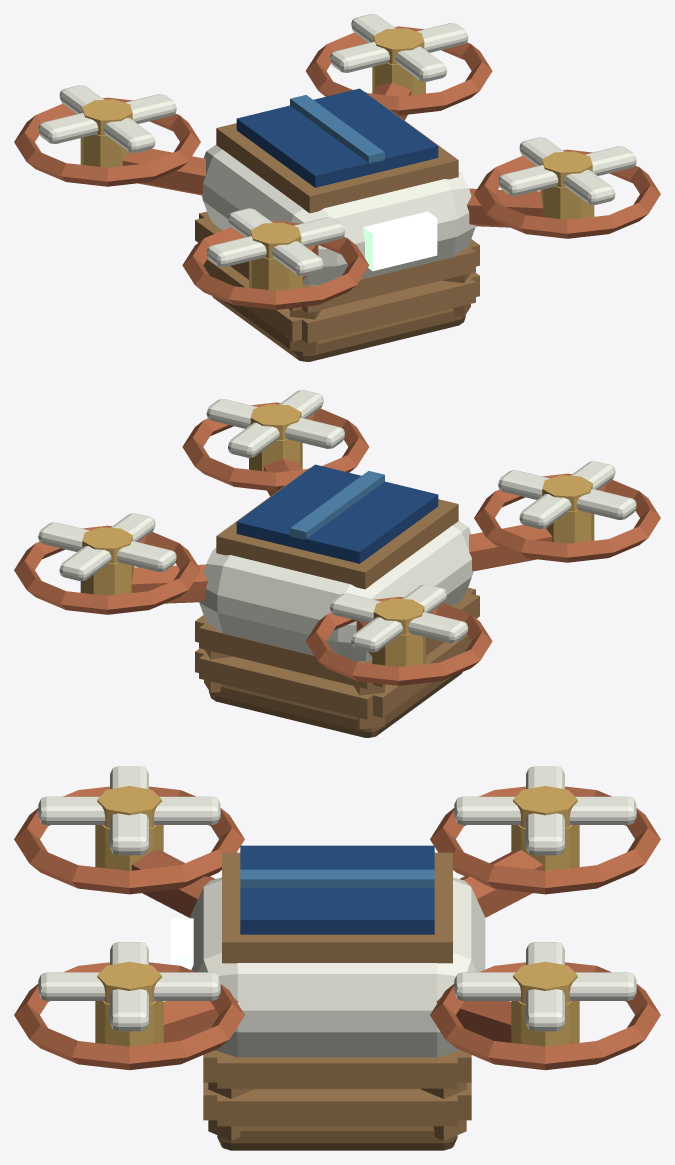
File: drone.glb
The picture shows the model from 3 angles, top to bottom: view 1: azimuth 30°, elevation 25°; view 2: azimuth 150°, elevation 25°; view 3: azimuth 270°, elevation 25°; orthographic projection. The views are drawn at different scales.
Parts seen in each view (by area): view 1: Drone_ceramic_body, Drone_solar_glass, Drone_solar_timber_frame, move_spin_rotor_0, move_spin_rotor_2, move_spin_rotor_1, move_spin_rotor_3, Drone_rotor_guard.001, Drone_rotor_guard.002, Drone_rotor_guard, Drone_basket_end, Drone_rotor_guard.003 (+13 smaller); view 2: Drone_ceramic_body, Drone_solar_glass, Drone_solar_timber_frame, move_spin_rotor_2, move_spin_rotor_0, move_spin_rotor_3, move_spin_rotor_1, Drone_rotor_guard, Drone_rotor_guard.003, Drone_rotor_guard.002, Drone_basket_end.001, Drone_rotor_guard.001 (+12 smaller); view 3: Drone_ceramic_body, Drone_solar_glass, Drone_solar_timber_frame, Drone_basket_side.001, Drone_basket_side.003, move_spin_rotor_0, move_spin_rotor_2, move_spin_rotor_1, move_spin_rotor_3, Drone_rotor_guard.001, Drone_rotor_guard.003, Drone_rotor_guard (+14 smaller).
Boxes of the visible parts, x1=… form: Drone_ceramic_body: x1=201, y1=145, x2=475, y2=285; Drone_solar_glass: x1=236, y1=88, x2=438, y2=187; Drone_solar_timber_frame: x1=216, y1=92, x2=458, y2=213; move_spin_rotor_0: x1=206, y1=208, x2=344, y2=276; move_spin_rotor_2: x1=38, y1=85, x2=176, y2=152; move_spin_rotor_1: x1=498, y1=137, x2=636, y2=204; move_spin_rotor_3: x1=330, y1=14, x2=468, y2=81; Drone_rotor_guard.001: x1=474, y1=149, x2=660, y2=238; Drone_rotor_guard.002: x1=14, y1=97, x2=200, y2=186; Drone_rotor_guard: x1=182, y1=221, x2=369, y2=309; Drone_basket_end: x1=300, y1=277, x2=475, y2=343; Drone_rotor_guard.003: x1=306, y1=26, x2=492, y2=115; Drone_ceramic_body: x1=199, y1=521, x2=473, y2=661; Drone_solar_glass: x1=236, y1=464, x2=438, y2=563; Drone_solar_timber_frame: x1=216, y1=468, x2=458, y2=589; move_spin_rotor_2: x1=330, y1=584, x2=468, y2=652; move_spin_rotor_0: x1=498, y1=461, x2=636, y2=528; move_spin_rotor_3: x1=38, y1=513, x2=176, y2=580; move_spin_rotor_1: x1=206, y1=390, x2=344, y2=457; Drone_rotor_guard: x1=474, y1=473, x2=660, y2=562; Drone_rotor_guard.003: x1=14, y1=525, x2=200, y2=614; Drone_rotor_guard.002: x1=305, y1=597, x2=492, y2=685; Drone_basket_end.001: x1=199, y1=653, x2=374, y2=719; Drone_rotor_guard.001: x1=182, y1=402, x2=368, y2=491; Drone_ceramic_body: x1=189, y1=877, x2=485, y2=1057; Drone_solar_glass: x1=240, y1=845, x2=434, y2=934; Drone_solar_timber_frame: x1=222, y1=852, x2=452, y2=963; Drone_basket_side.001: x1=217, y1=1089, x2=457, y2=1126; Drone_basket_side.003: x1=217, y1=1055, x2=457, y2=1088; move_spin_rotor_0: x1=38, y1=766, x2=220, y2=855; move_spin_rotor_2: x1=454, y1=766, x2=636, y2=855; move_spin_rotor_1: x1=38, y1=942, x2=220, y2=1031; move_spin_rotor_3: x1=454, y1=942, x2=636, y2=1031; Drone_rotor_guard.001: x1=14, y1=962, x2=244, y2=1070; Drone_rotor_guard.003: x1=430, y1=962, x2=660, y2=1070; Drone_rotor_guard: x1=14, y1=786, x2=244, y2=894.
Bounding box in the file's own units: 0.7 × 0.2755 × 0.7.
